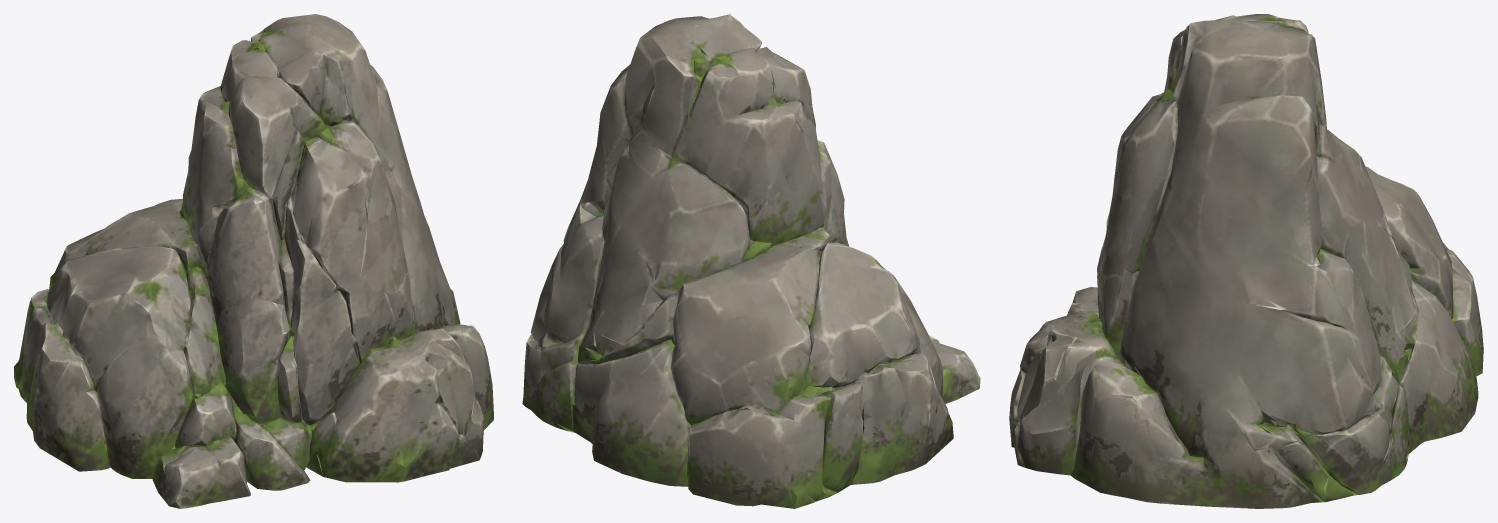
The model's file is RockTall.glb.
The picture shows the model from 3 angles, left to right: view 1: azimuth 30°, elevation 25°; view 2: azimuth 150°, elevation 25°; view 3: azimuth 270°, elevation 25°; orthographic projection. The views are drawn at different scales.
Parts seen in each view (by area): view 1: RockTall; view 2: RockTall; view 3: RockTall.
Part boxes in pixels (left/top/right/bottom): RockTall: left=14, top=14, right=493, bottom=508; RockTall: left=522, top=14, right=980, bottom=508; RockTall: left=1009, top=14, right=1483, bottom=508.
Size of the model in its own units: 3.28 by 2.88 by 3.04.
1 material, 1 textured.
